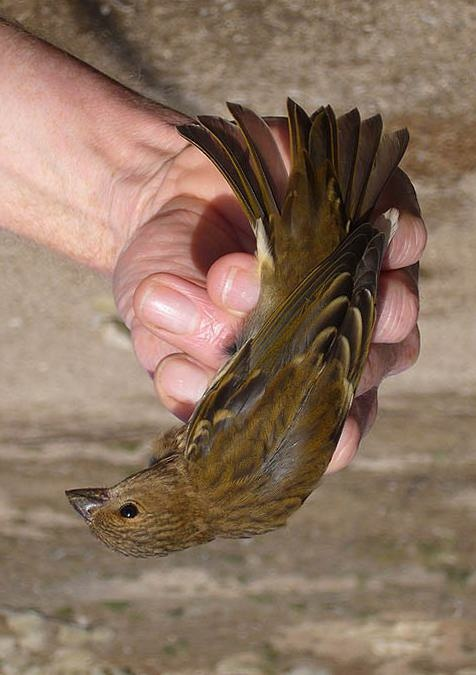rosefinch: (63, 127, 391, 583)
